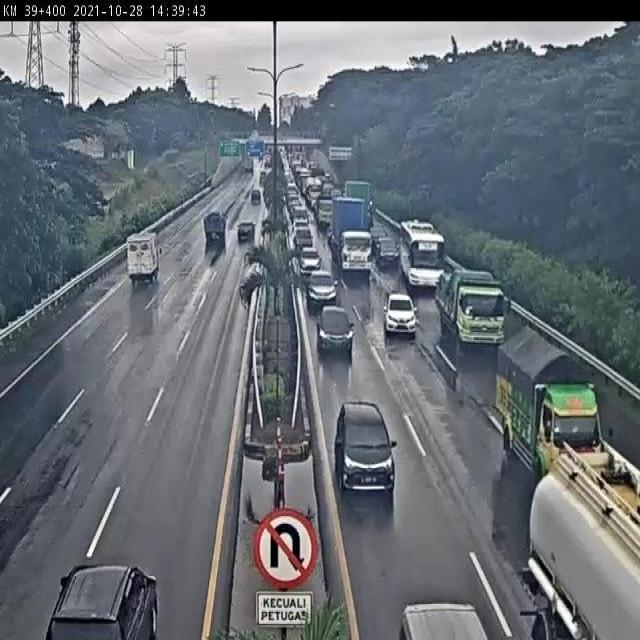ARABA: (335, 401, 400, 495), (313, 300, 352, 348), (380, 288, 415, 332), (304, 260, 332, 299), (375, 237, 398, 267), (297, 236, 320, 263), (236, 216, 258, 243)
KAMYONET: (492, 329, 609, 476), (430, 263, 506, 345), (122, 233, 159, 283), (201, 212, 226, 244)
OTOBUS: (398, 219, 444, 288)
TIR: (332, 196, 373, 277)
